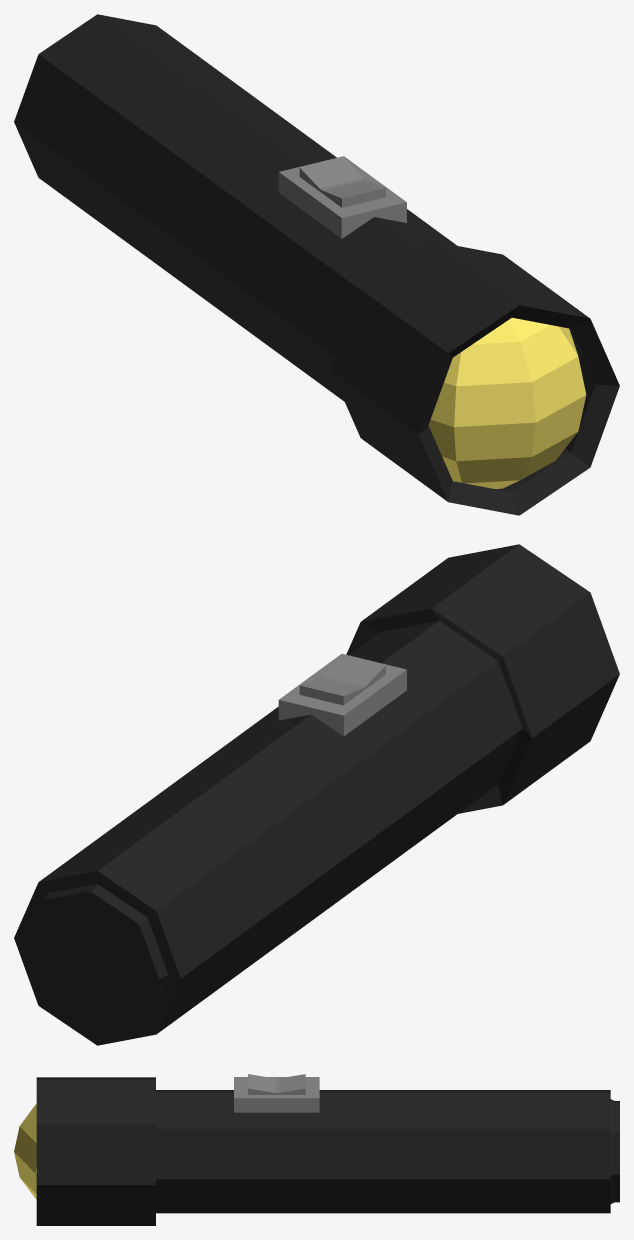
File: Torch.fbx
3 renders of one model, top to bottom at view 1: azimuth 30°, elevation 25°; view 2: azimuth 150°, elevation 25°; view 3: azimuth 270°, elevation 25°, orthographic. The views are drawn at different scales.
Parts seen in each view (by area): view 1: Sphere; view 2: Sphere; view 3: Sphere.
Boxes of the visible parts, bbox=[...] form: Sphere: bbox=[14, 14, 619, 515]; Sphere: bbox=[14, 544, 619, 1045]; Sphere: bbox=[14, 1074, 619, 1225].
Size of the model in its own units: 241 by 241 by 924.
